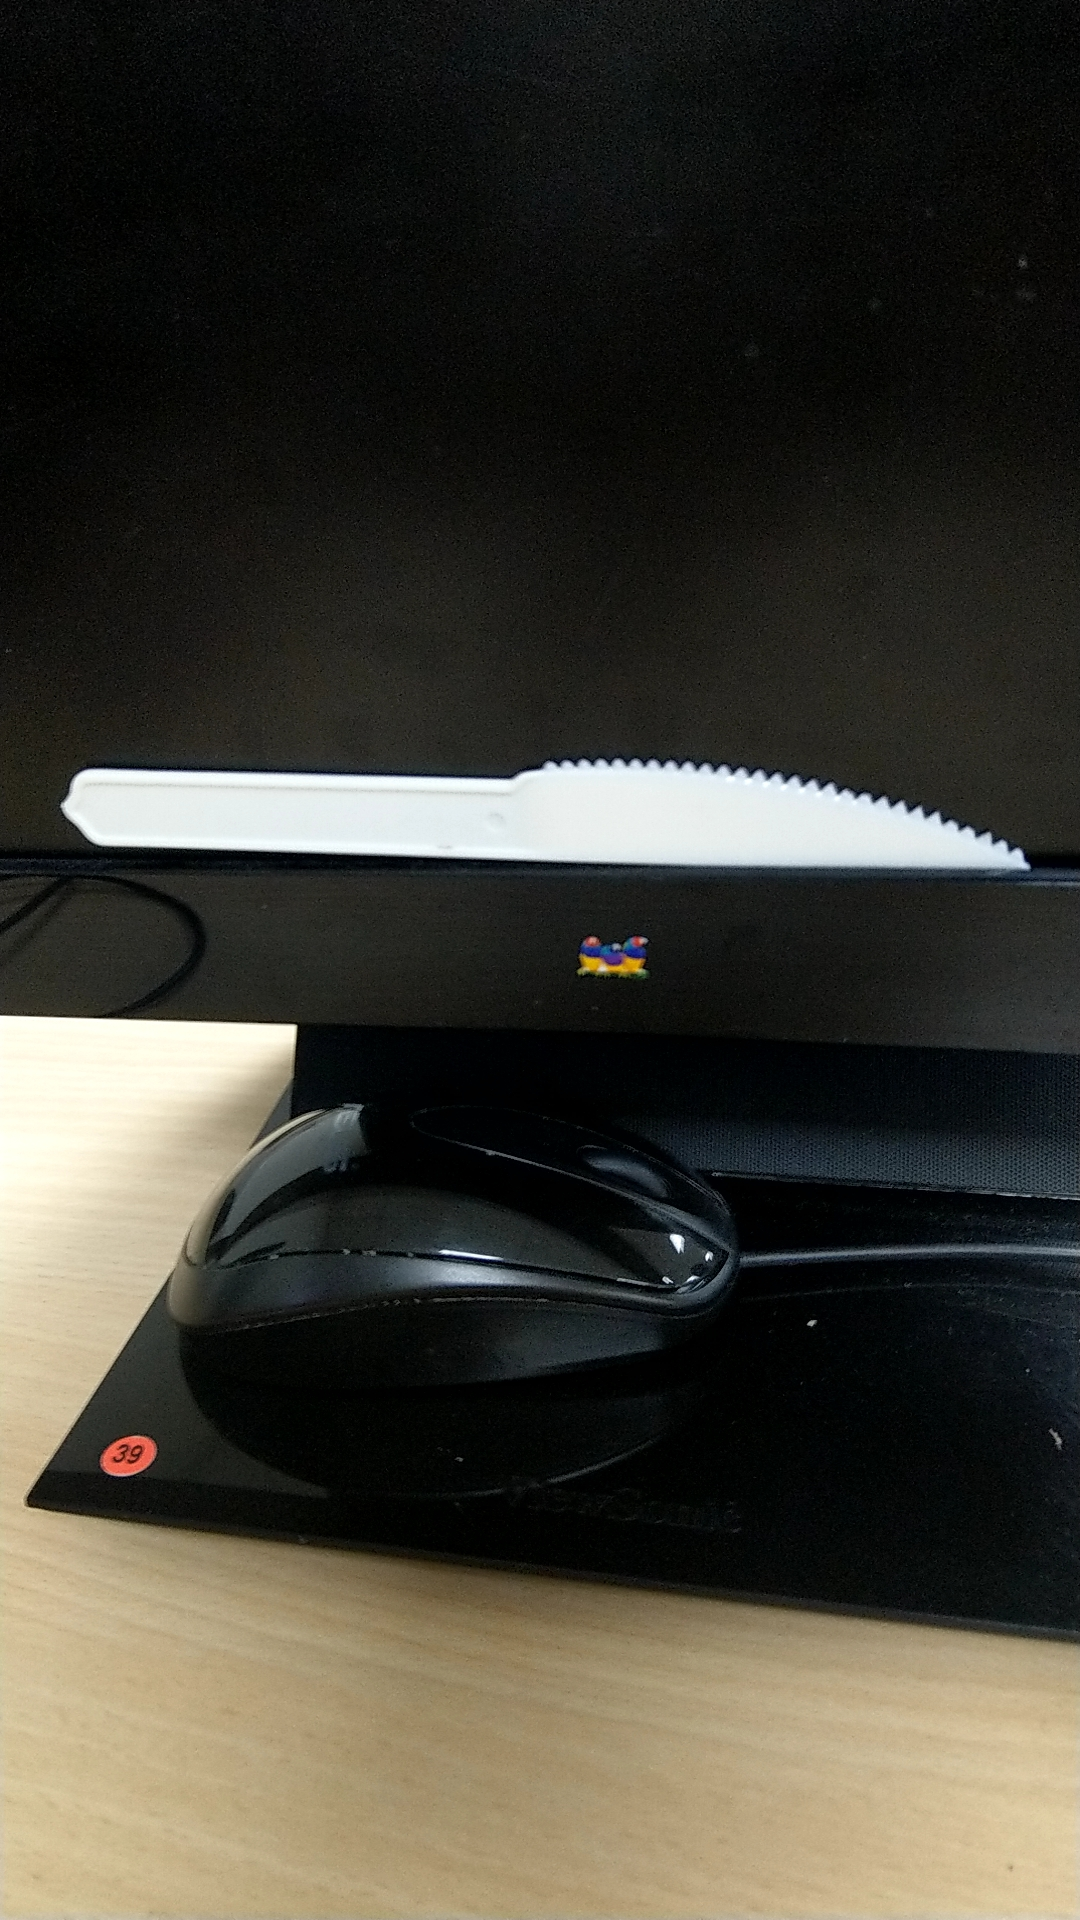knife: (41, 742, 1040, 889)
